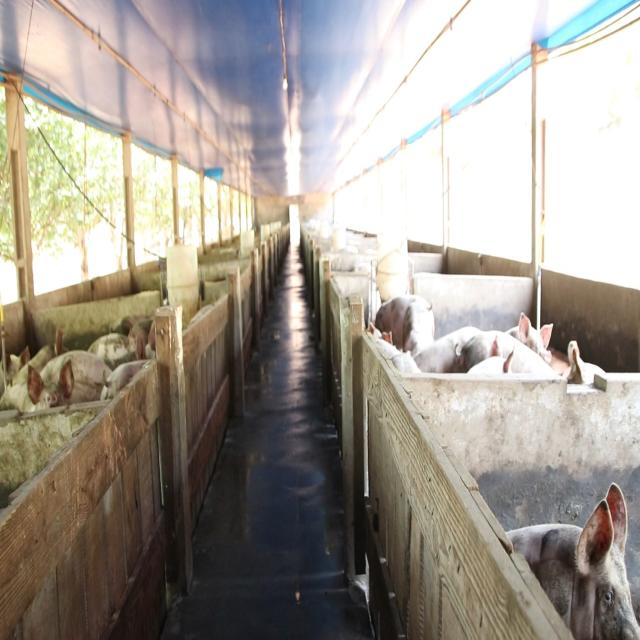pig: (489, 490, 633, 636)
